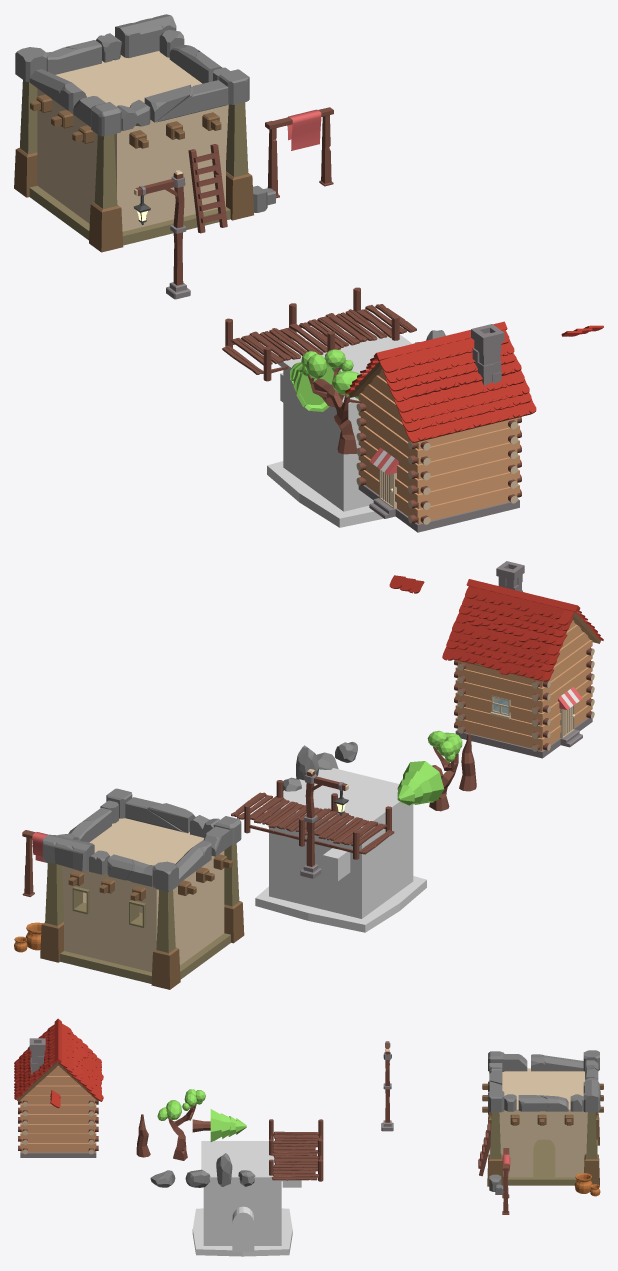
Rendered from Roca1.fbx.
3 views of the same model, one above another, from view 1: azimuth 30°, elevation 25°; view 2: azimuth 150°, elevation 25°; view 3: azimuth 270°, elevation 25° (orthographic). The views are drawn at different scales.
Parts seen in each view (by area): view 1: paredes, casa, Tejas2, Cube.009, columnas, Icosphere.001, Cube.013, Cube.022, Cube.024, Cube.003, Cube.019, chimenea (+14 smaller); view 2: paredes, Cube.009, casa, Plane.001, columnas, Cylinder, Cube.022, Cube.013, Cube.003, Icosphere.001, Cube.010, Cube.014 (+12 smaller); view 3: Cube.009, paredes, casa, Plane.001, columnas, Tejas2, Icosphere.001, Cube.017, Cylinder, Cube.014, Cube.005, Cube.022 (+12 smaller).
Boxes of the visible parts, x1,y1,x2,y2 form: paredes: (29, 51, 230, 245); casa: (358, 369, 519, 532); Tejas2: (379, 329, 536, 442); Cube.009: (267, 332, 412, 527); columnas: (14, 80, 253, 252); Icosphere.001: (301, 349, 360, 454); Cube.013: (144, 80, 228, 122); Cube.022: (133, 170, 190, 299); Cube.024: (188, 144, 227, 233); Cube.003: (115, 14, 176, 57); Cube.019: (265, 107, 333, 198); chimenea: (471, 324, 504, 385); paredes: (60, 818, 230, 983); Cube.009: (255, 768, 426, 932); casa: (455, 620, 592, 758); Plane.001: (442, 586, 574, 681); columnas: (40, 843, 244, 989); Cylinder: (397, 761, 444, 805); Cube.022: (300, 769, 348, 878); Cube.013: (125, 797, 195, 833); Cube.003: (42, 834, 94, 871); Icosphere.001: (427, 730, 462, 811); Cube.010: (107, 854, 153, 886); Cube.014: (68, 808, 111, 842); Cube.009: (192, 1141, 292, 1256); paredes: (489, 1068, 597, 1185); casa: (20, 1066, 96, 1157); Plane.001: (58, 1023, 103, 1101); columnas: (487, 1112, 599, 1186); Tejas2: (14, 1024, 54, 1099); Icosphere.001: (157, 1089, 205, 1160); Cube.017: (232, 1206, 254, 1251); Cylinder: (192, 1109, 246, 1141); Cube.014: (518, 1095, 568, 1111); Cube.005: (531, 1054, 583, 1071); Cube.022: (381, 1041, 393, 1131).
Bounding box in the file's own units: 8273 × 7315 × 21655.
